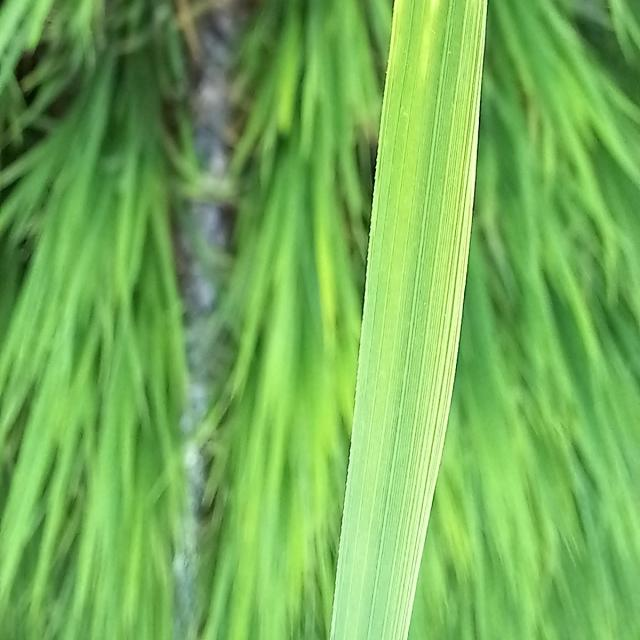HealthyLeaf: (327, 36, 485, 638)
